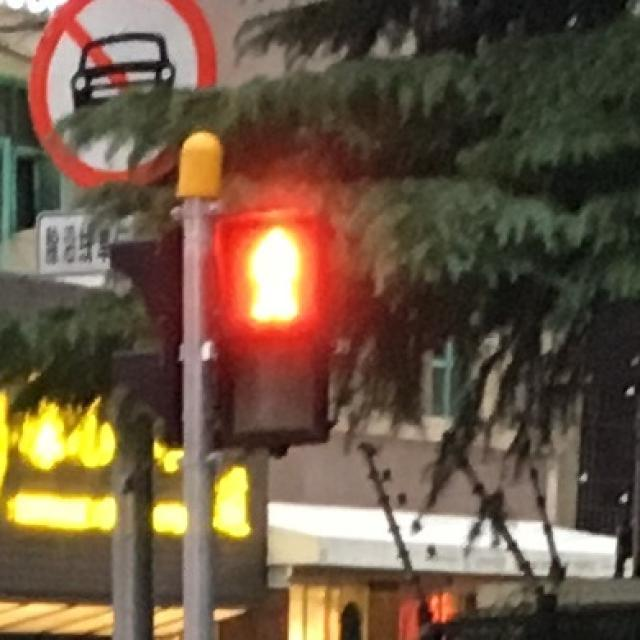red-crossing: (224, 220, 316, 326)
